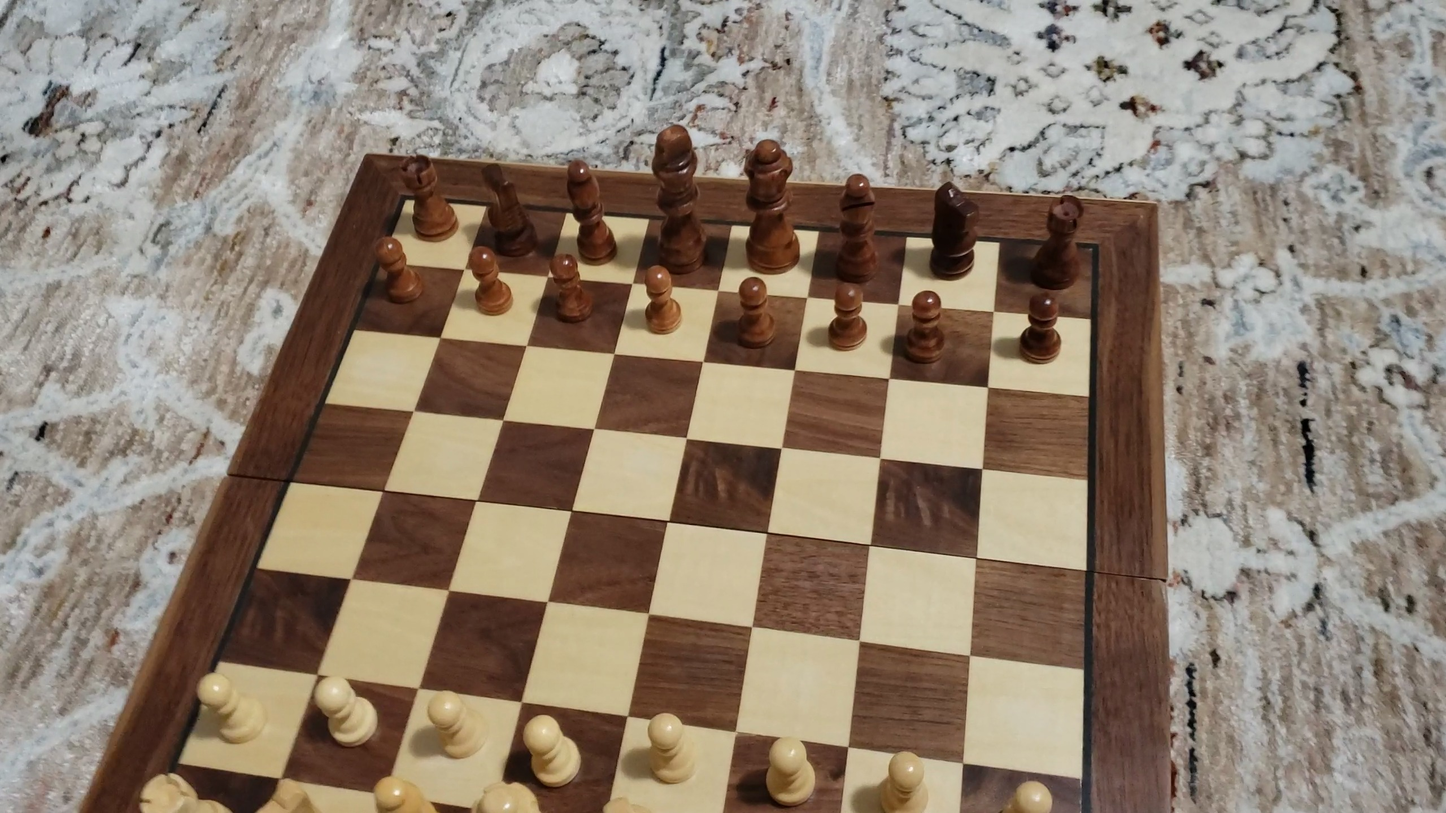black-bishop: (564, 156, 619, 265), (836, 171, 879, 282)
black-king: (651, 120, 706, 274)
black-knight: (480, 159, 541, 259), (927, 177, 979, 279)
black-pawn: (373, 234, 424, 306), (903, 287, 948, 366), (1018, 291, 1065, 366), (547, 251, 593, 326), (468, 244, 512, 317), (735, 274, 776, 352), (826, 280, 869, 354), (642, 262, 682, 337)
black-queen: (738, 134, 802, 274)
black-rook: (1029, 191, 1086, 292), (400, 151, 457, 241)
white-pawn: (191, 669, 273, 749), (310, 672, 384, 751), (521, 711, 585, 792), (420, 687, 489, 762), (642, 708, 703, 788), (761, 732, 822, 811)
